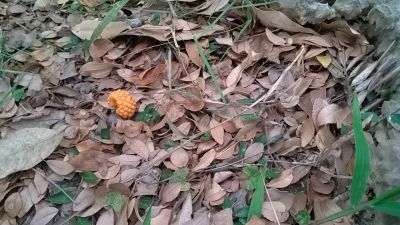eggs: (107, 88, 138, 120)
